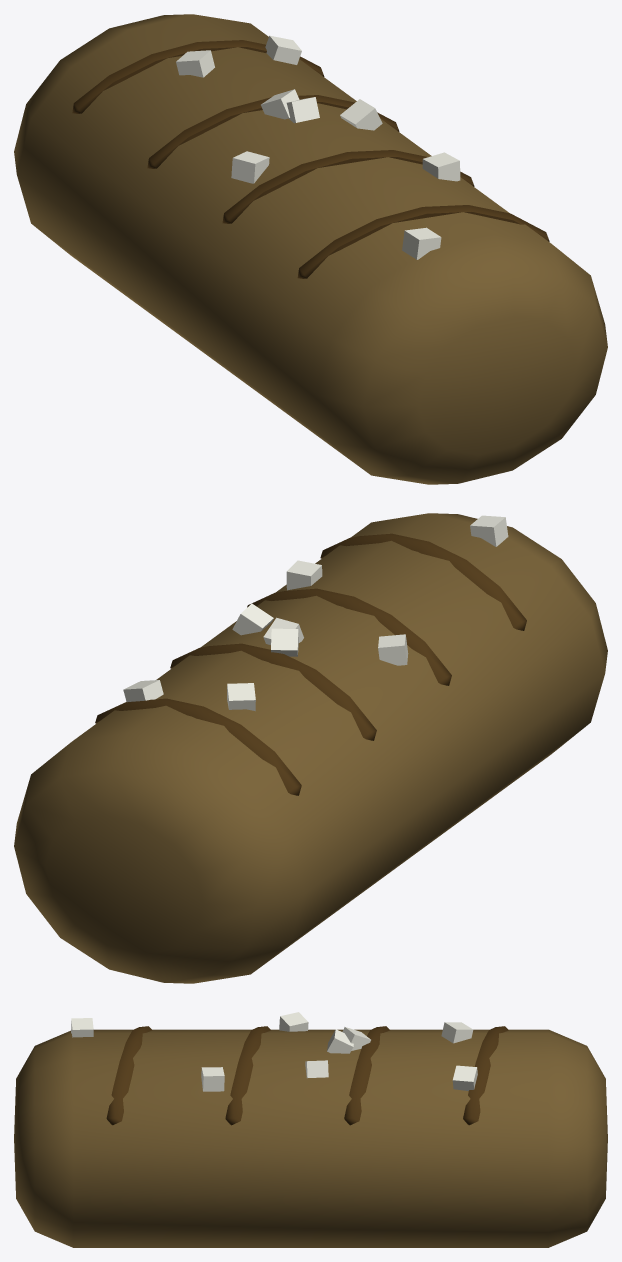
Rendered from shot_pretzel_rod.glb.
3 views of the same model, one above another, from view 1: azimuth 30°, elevation 25°; view 2: azimuth 150°, elevation 25°; view 3: azimuth 270°, elevation 25° (orthographic). The views are drawn at different scales.
Parts seen in each view (by area): view 1: pr_body, pr_score, pr_score.001, pr_score.003, pr_score.002, pr_salt.001, pr_salt.007, pr_salt.005, pr_salt.004, pr_salt.003, pr_salt.006, pr_salt.002 (+1 smaller); view 2: pr_body, pr_score.003, pr_score, pr_score.002, pr_score.001, pr_salt.007, pr_salt.001, pr_salt.005, pr_salt.003, pr_salt.004, pr_salt.002, pr_salt.006; view 3: pr_body, pr_score.001, pr_score, pr_score.002, pr_score.003, pr_salt.005, pr_salt.006, pr_salt.004, pr_salt.001, pr_salt, pr_salt.007, pr_salt.003 (+1 smaller).
Boxes of the visible parts, x1,y1,x2,y2 form: pr_body: [14, 14, 607, 484]; pr_score: [297, 205, 549, 278]; pr_score.001: [222, 150, 474, 223]; pr_score.003: [72, 40, 324, 113]; pr_score.002: [147, 95, 399, 168]; pr_salt.001: [231, 151, 269, 183]; pr_salt.007: [402, 227, 441, 259]; pr_salt.005: [422, 152, 460, 181]; pr_salt.004: [176, 50, 214, 77]; pr_salt.003: [340, 99, 382, 130]; pr_salt.006: [265, 35, 301, 64]; pr_salt.002: [261, 89, 299, 119]; pr_body: [14, 513, 607, 983]; pr_score.003: [95, 698, 301, 795]; pr_score: [320, 533, 526, 630]; pr_score.002: [170, 643, 376, 740]; pr_score.001: [247, 588, 451, 685]; pr_salt.007: [470, 515, 508, 546]; pr_salt.001: [378, 634, 408, 665]; pr_salt.005: [286, 560, 322, 590]; pr_salt.003: [232, 603, 273, 635]; pr_salt.004: [227, 683, 255, 711]; pr_salt.002: [271, 628, 298, 656]; pr_salt.006: [123, 680, 163, 702]; pr_body: [14, 1029, 607, 1247]; pr_score.001: [225, 1026, 271, 1125]; pr_score: [106, 1026, 152, 1125]; pr_score.002: [344, 1026, 390, 1125]; pr_score.003: [463, 1026, 508, 1125]; pr_salt.005: [201, 1067, 224, 1091]; pr_salt.006: [452, 1065, 477, 1090]; pr_salt.004: [441, 1022, 473, 1043]; pr_salt.001: [279, 1012, 308, 1031]; pr_salt: [327, 1029, 353, 1053]; pr_salt.007: [71, 1018, 93, 1037]; pr_salt.003: [305, 1060, 328, 1078].
Bounding box in the file's own units: 6.2 × 5.24 × 14.
